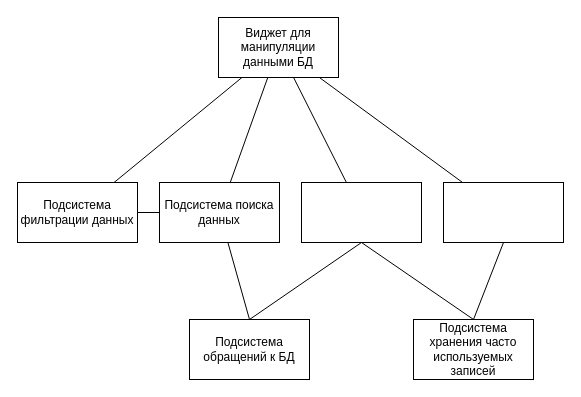
Some shapes in this 581 by 397 pixel diagram are drawn without their labels. The centre of each missing label's shape, as x and y in pixels:
Подсистема истории записей БД: [503,212]
Подсистема создания и редактирования записей таблицы БД: [361,212]
